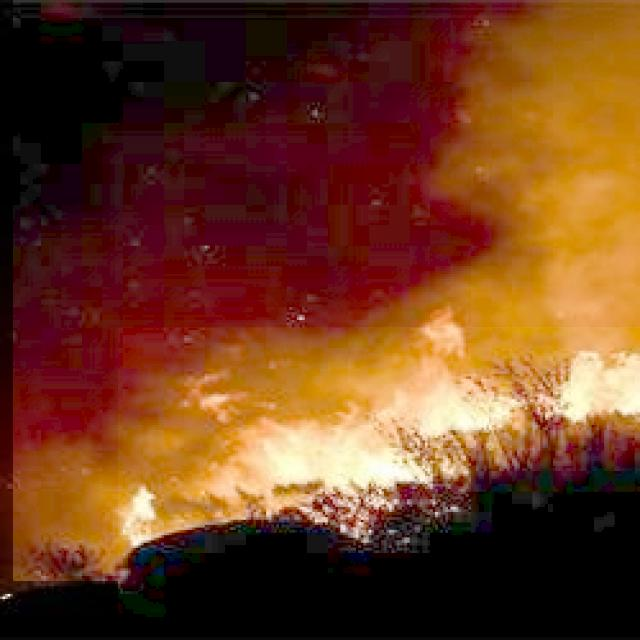Fire: (118, 327, 640, 619)
Smoke: (13, 0, 640, 581)
